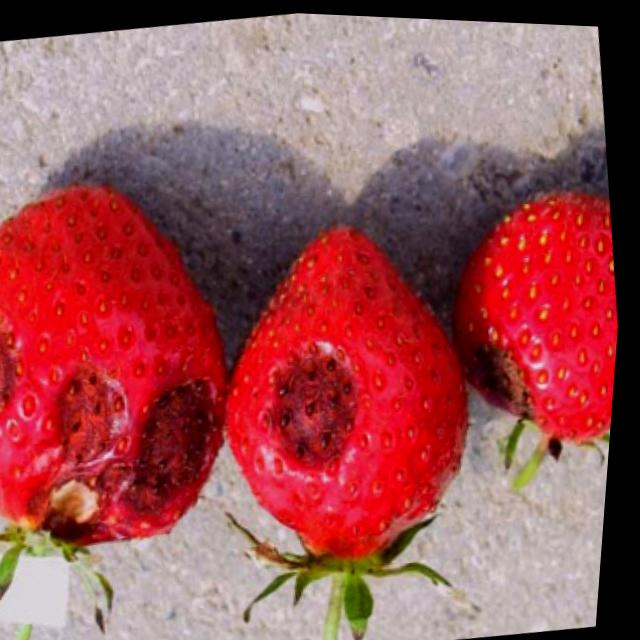Anthracnose Fruit Rot: (0, 303, 225, 537), (269, 350, 369, 464), (475, 334, 552, 417)
